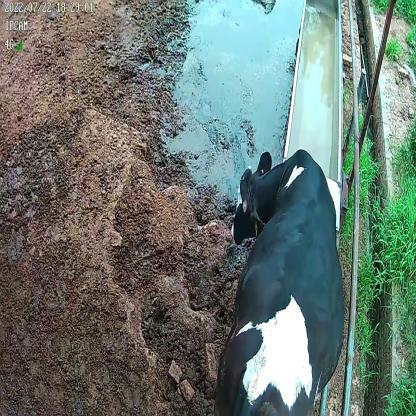cow: (214, 148, 346, 416)
